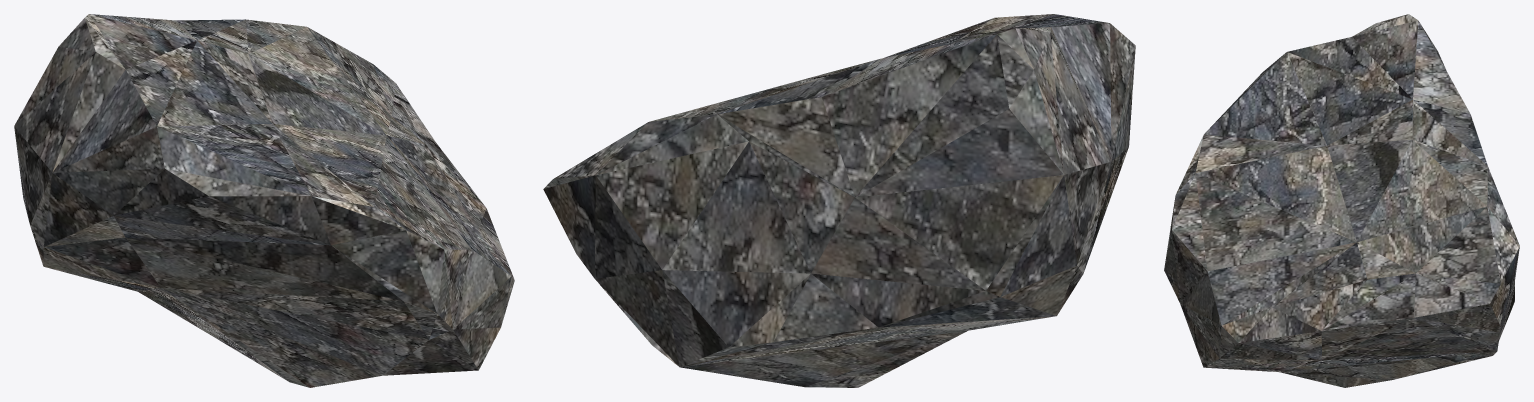
File: rock-gray.gltf
3 views of the same model, side by side, from view 1: azimuth 30°, elevation 25°; view 2: azimuth 150°, elevation 25°; view 3: azimuth 270°, elevation 25° (orthographic). The views are drawn at different scales.
Parts seen in each view (by area): view 1: Object.065; view 2: Object.065; view 3: Object.065.
Boxes of the visible parts, left/top/right/bottom form: Object.065: left=14, top=14, right=514, bottom=387; Object.065: left=543, top=14, right=1135, bottom=387; Object.065: left=1164, top=14, right=1519, bottom=387.
Size of the model in its own units: 0.6111 by 0.5347 by 0.5689.
Materials: 1 (1 with a texture image).
